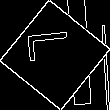L_E: (29, 37, 81, 73)
